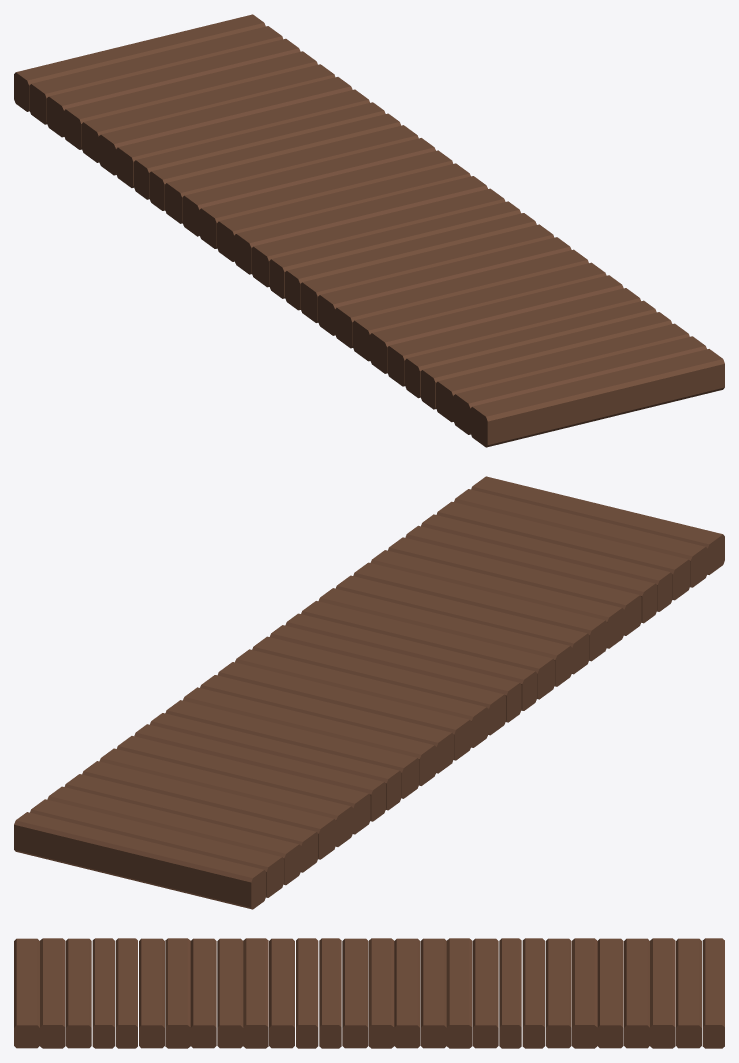
Rendered from 2andar.fbx.
3 views of the same model, one above another, from view 1: azimuth 30°, elevation 25°; view 2: azimuth 150°, elevation 25°; view 3: azimuth 270°, elevation 25° (orthographic). The views are drawn at different scales.
Parts seen in each view (by area): view 1: polySurface554; view 2: polySurface554; view 3: polySurface554.
Boxes of the visible parts, box(x1,y1,x2,y2) form: polySurface554: box(14, 14, 724, 447); polySurface554: box(14, 476, 724, 909); polySurface554: box(14, 938, 724, 1048).
Bounding box in the file's own units: 237 × 30.01 × 820.
